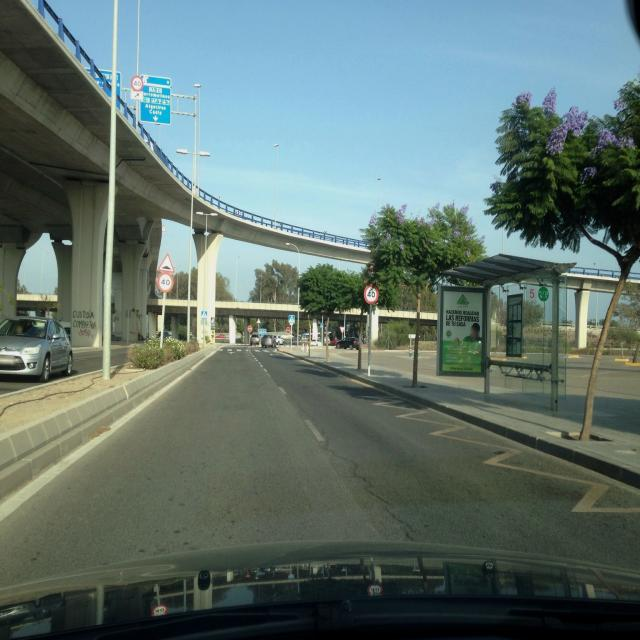car: (0, 316, 74, 383), (261, 333, 283, 348), (336, 336, 361, 349)
